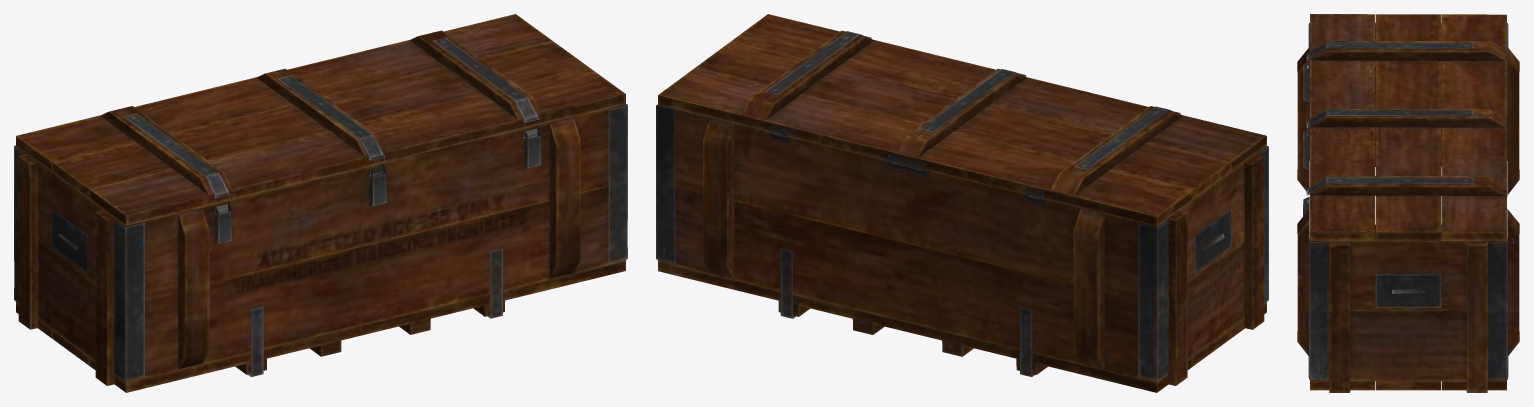
File: wooden_military_crate.glb
The picture shows the model from 3 angles, left to right: view 1: azimuth 30°, elevation 25°; view 2: azimuth 150°, elevation 25°; view 3: azimuth 270°, elevation 25°; orthographic projection. The views are drawn at different scales.
Visible parts, largest first — view 1: wooden_military_crate; view 2: wooden_military_crate; view 3: wooden_military_crate.
Boxes of the visible parts, box(x1,y1,x2,y2) form: wooden_military_crate: box(14, 14, 627, 392); wooden_military_crate: box(656, 14, 1268, 392); wooden_military_crate: box(1297, 14, 1519, 392).
Size of the model in its own units: 1.24 by 0.4642 by 0.5171.
1 material, 1 textured.
